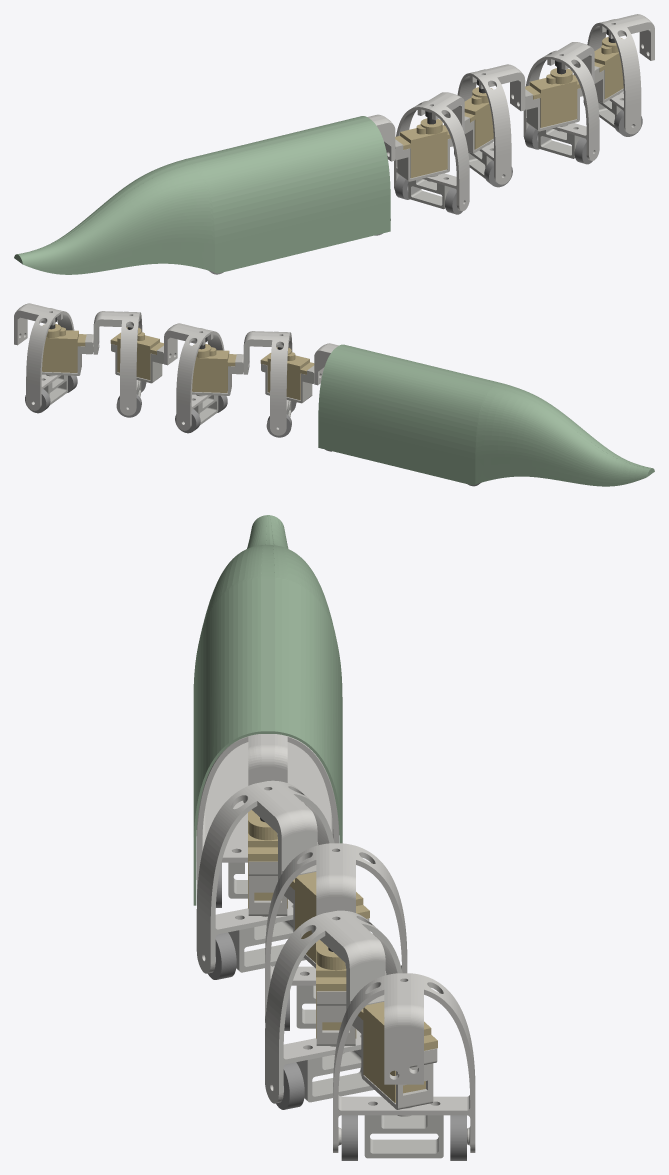
Rendered from snake_4node_serpentine_with_tail.glb.
The picture shows the model from 3 angles, top to bottom: view 1: azimuth 30°, elevation 25°; view 2: azimuth 150°, elevation 25°; view 3: azimuth 270°, elevation 25°; orthographic projection. The views are drawn at different scales.
Parts seen in each view (by area): view 1: tail_skin, n1_rib, n3_rib, n2_rib, n0_rib, n0_mg90s, n2_mg90s, n1_mg90s, n3_mg90s, n0_wire_guide, n2_wire_guide, n0_coupler (+6 smaller); view 2: tail_skin, n1_rib, n3_rib, n0_rib, n2_rib, n1_mg90s, n3_mg90s, n0_mg90s, n2_mg90s, n0_coupler, n2_coupler, caboose (+4 smaller); view 3: tail_skin, n3_rib, n0_rib, n2_rib, caboose, n1_rib, n3_wire_guide, n3_mg90s, n2_wire_guide, n0_wire_guide, n3_coupler, n2_coupler (+6 smaller).
Boxes of the visible parts, <box> form: tail_skin: <box>14,116,390,274</box>; n1_rib: <box>457,64,525,184</box>; n3_rib: <box>587,14,654,134</box>; n2_rib: <box>523,42,599,160</box>; n0_rib: <box>394,92,469,211</box>; n0_mg90s: <box>395,118,450,178</box>; n2_mg90s: <box>525,68,580,127</box>; n1_mg90s: <box>464,87,493,149</box>; n3_mg90s: <box>594,37,623,99</box>; n0_wire_guide: <box>408,179,450,209</box>; n2_wire_guide: <box>538,128,580,158</box>; n0_coupler: <box>395,138,452,181</box>; tail_skin: <box>318,344,654,486</box>; n1_rib: <box>164,323,224,430</box>; n3_rib: <box>14,303,74,410</box>; n0_rib: <box>243,331,292,435</box>; n2_rib: <box>93,311,142,415</box>; n1_mg90s: <box>192,343,236,392</box>; n3_mg90s: <box>42,323,86,372</box>; n0_mg90s: <box>260,347,314,399</box>; n2_mg90s: <box>110,327,163,379</box>; n0_coupler: <box>261,364,314,403</box>; n2_coupler: <box>111,344,163,383</box>; caboose: <box>314,343,338,385</box>; tail_skin: <box>193,515,342,905</box>; n3_rib: <box>333,973,475,1152</box>; n0_rib: <box>196,780,334,973</box>; n2_rib: <box>265,910,402,1103</box>; caboose: <box>196,734,339,894</box>; n1_rib: <box>265,843,407,1022</box>; n3_wire_guide: <box>364,1115,443,1158</box>; n3_mg90s: <box>358,1002,437,1102</box>; n2_wire_guide: <box>296,1049,373,1102</box>; n0_wire_guide: <box>228,919,305,972</box>; n3_coupler: <box>350,995,437,1116</box>; n2_coupler: <box>316,991,355,1054</box>.
Size of the model in its own units: 419 by 60.8 by 85.53.
